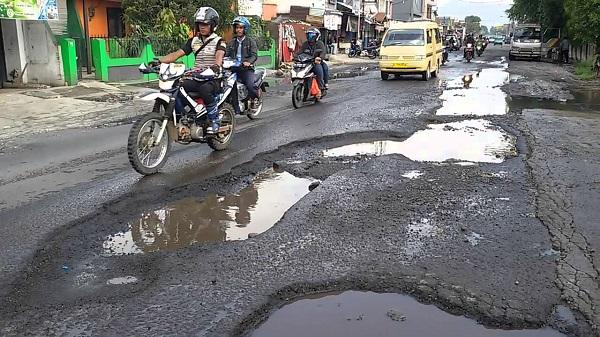Pothole: (33, 108, 599, 291), (200, 275, 600, 337), (426, 47, 600, 166)
